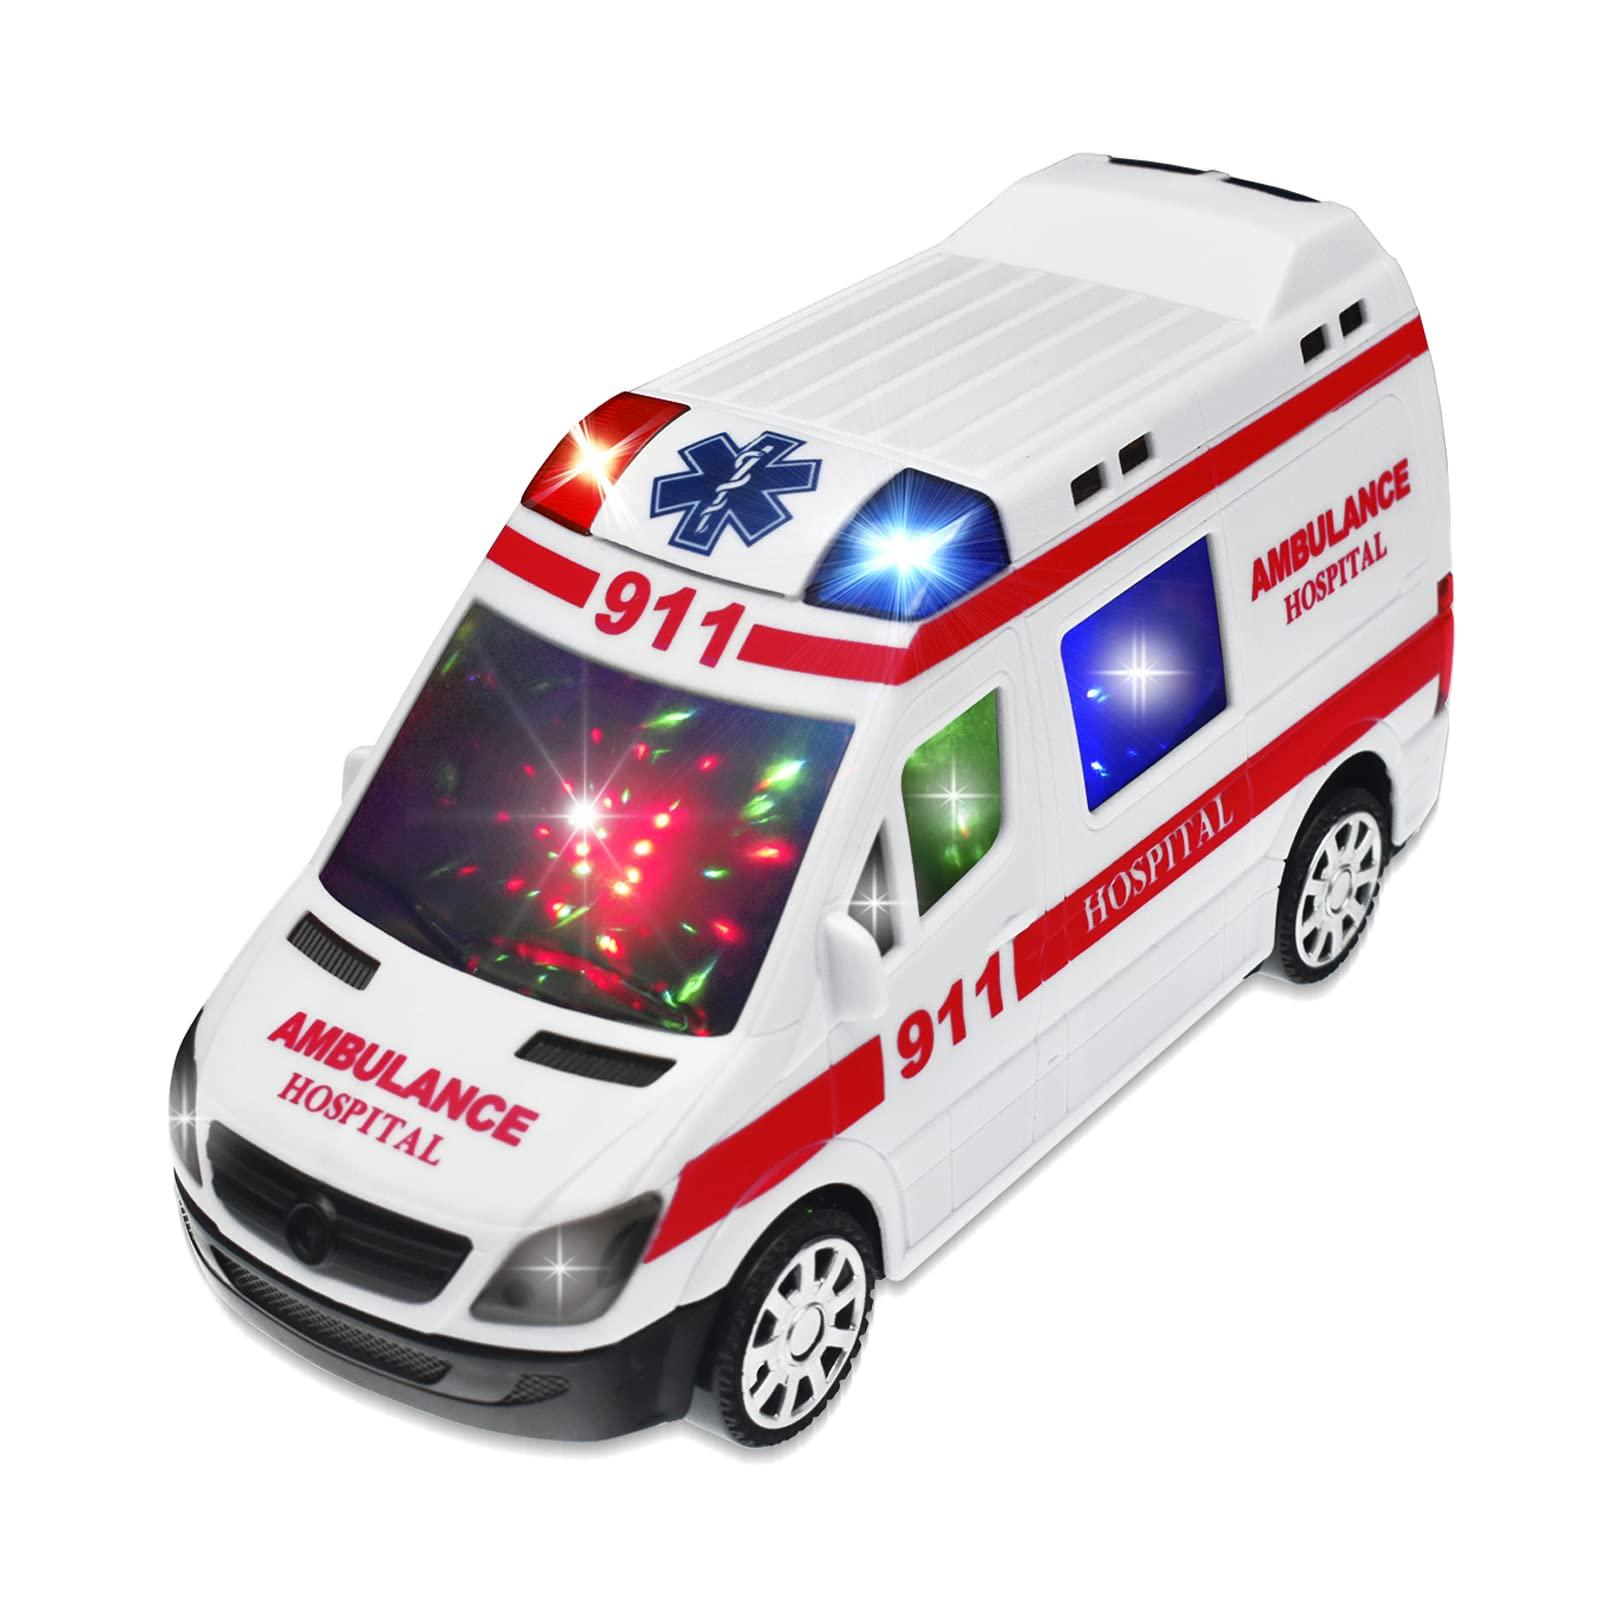ambulance_on: (157, 145, 1458, 1440)
